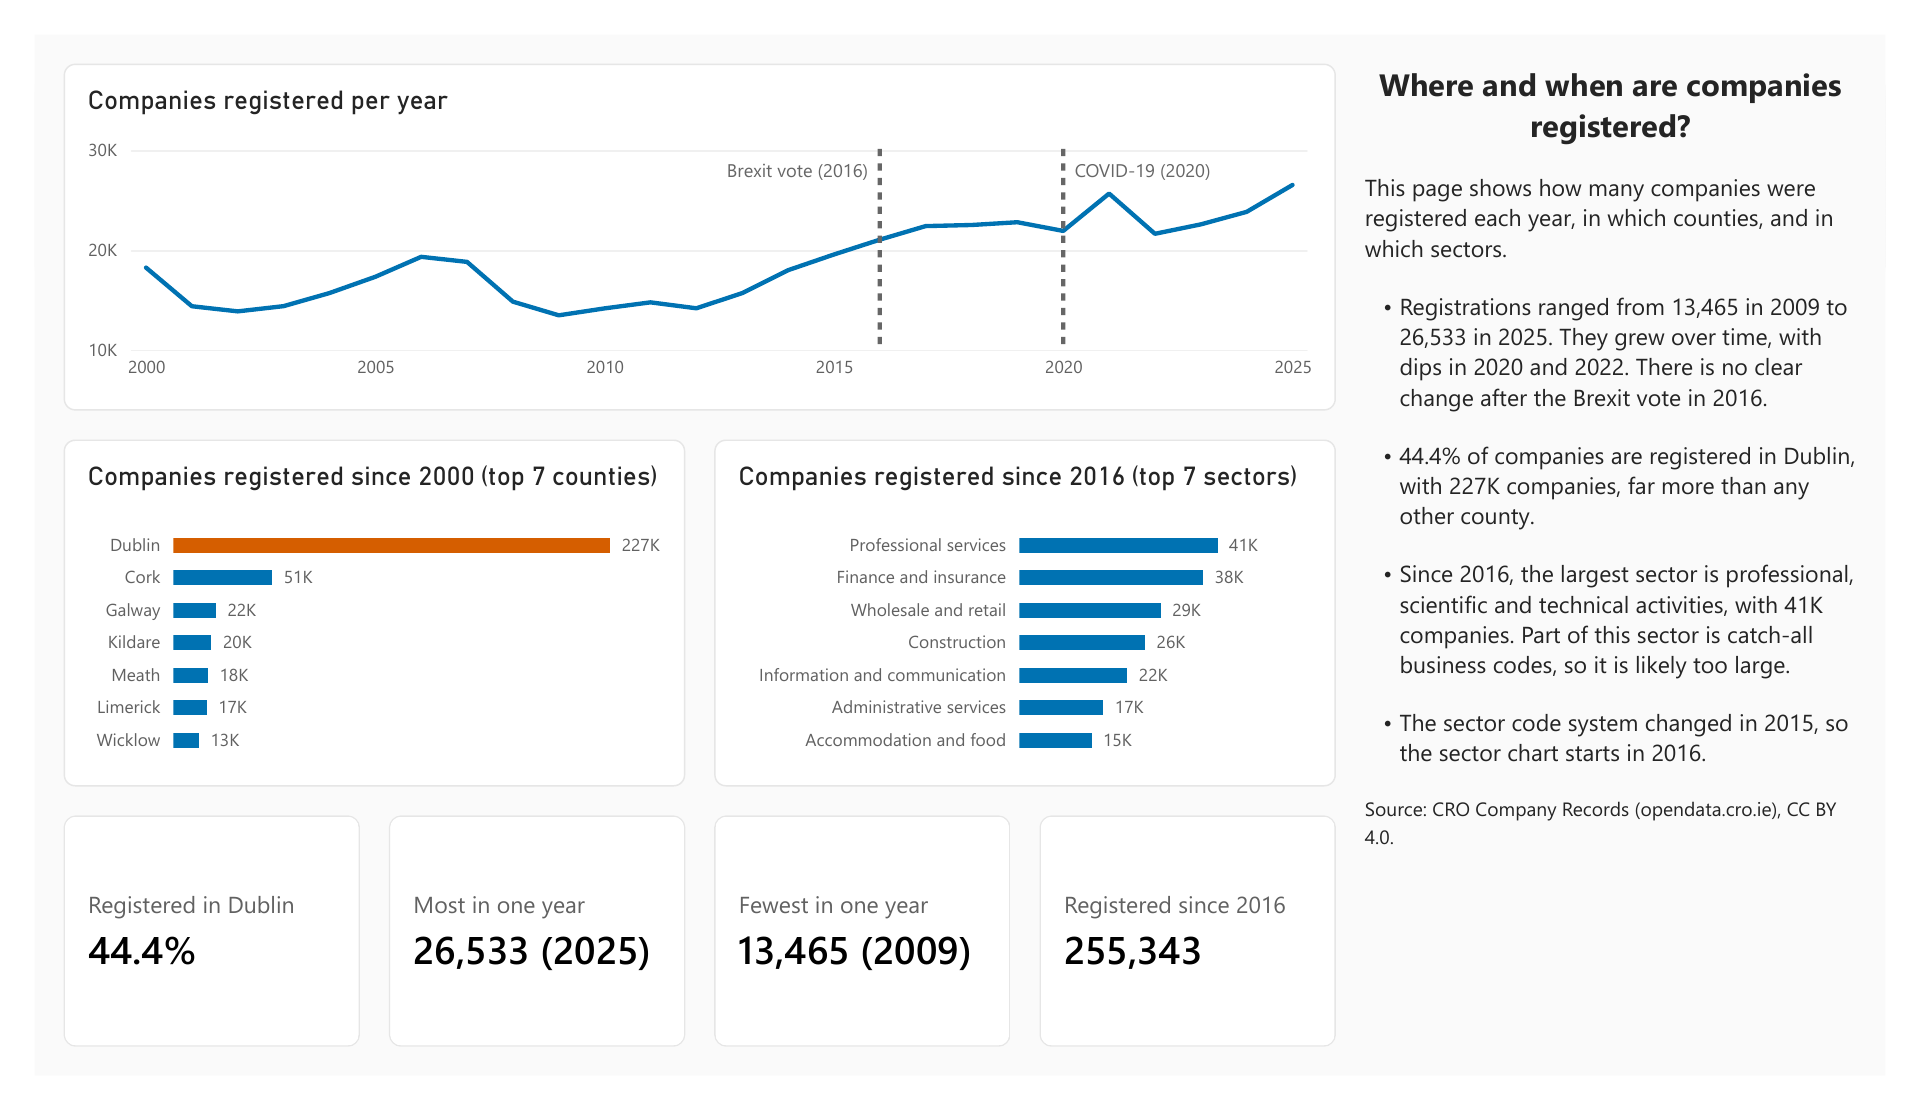

Layout of this report page (visuals, bound fields, positions):
{"tool":"powerbi","page":{"name":"Registrations","canvas":[1280,720],"ordinal":1},"visuals":[{"type":"cardVisual","fields":{"Data":["fact_company.Dublin share (label)"]},"box":[20,540,205,160],"z":0},{"type":"cardVisual","fields":{"Data":["fact_company.Most in one year (label)"]},"box":[245,540,205,160],"z":1000},{"type":"cardVisual","fields":{"Data":["fact_company.Fewest in one year (label)"]},"box":[470,540,205,160],"z":2000},{"type":"cardVisual","fields":{"Data":["fact_company.Companies 2016+ (label)"]},"box":[695,540,205,160],"z":3000},{"type":"lineChart","title":"Companies registered per year","fields":{"Category":["dim_date.year"],"Y":["fact_company.Registrations (complete years)"]},"box":[20,20,880,240],"z":4000},{"type":"textbox","box":[920,20,340,680],"z":5000},{"type":"clusteredBarChart","title":"Companies registered since 2000 (top 7 counties)","fields":{"Category":["dim_county.county"],"Y":["fact_company.Companies"]},"box":[20,280,430,240],"z":6000},{"type":"clusteredBarChart","title":"Companies registered since 2016 (top 7 sectors)","fields":{"Category":["dim_sector.section_name"],"Y":["fact_company.Companies (2016+)"]},"box":[470,280,430,240],"z":7000}]}

Visuals, with their boxes in screenshot pixels (x1, y1, x2, y2), scaled from the page's 1280x720 canvas onto the 1920x1111 screenshot:
cardVisual - fact_company.Dublin share (label): rect(30, 833, 338, 1080)
cardVisual - fact_company.Most in one year (label): rect(368, 833, 675, 1080)
cardVisual - fact_company.Fewest in one year (label): rect(705, 833, 1012, 1080)
cardVisual - fact_company.Companies 2016+ (label): rect(1042, 833, 1350, 1080)
"Companies registered per year" lineChart: rect(30, 31, 1350, 401)
textbox: rect(1380, 31, 1890, 1080)
"Companies registered since 2000 (top 7 counties)" clusteredBarChart: rect(30, 432, 675, 802)
"Companies registered since 2016 (top 7 sectors)" clusteredBarChart: rect(705, 432, 1350, 802)
